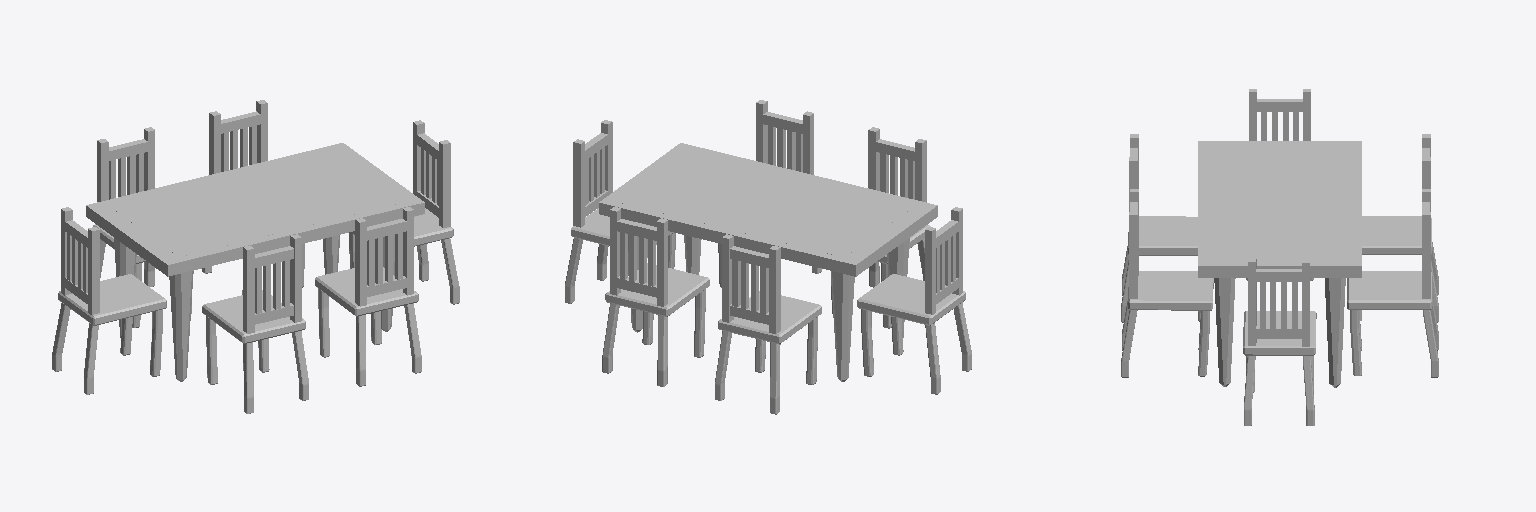
The model's file is Mahogany.obj.
3 views of the same model, side by side, from view 1: azimuth 30°, elevation 25°; view 2: azimuth 150°, elevation 25°; view 3: azimuth 270°, elevation 25° (orthographic).
Parts seen in each view (by area): view 1: polySurface84; view 2: polySurface84; view 3: polySurface84.
Boxes of the visible parts, <box> form: polySurface84: <box>52,100,459,413</box>; polySurface84: <box>565,100,971,414</box>; polySurface84: <box>1121,89,1438,425</box>.
Bounding box in the file's own units: 12.66 × 5.26 × 9.33.